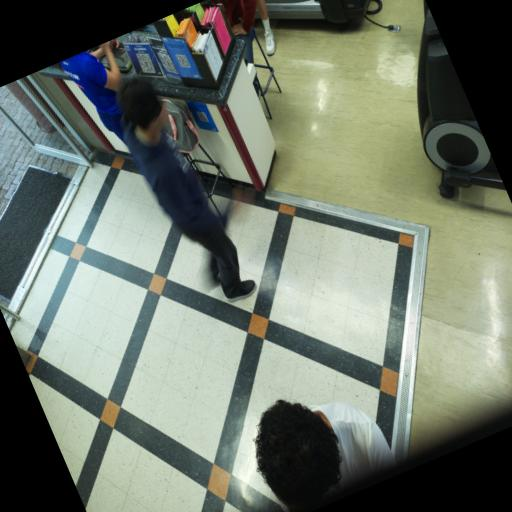person: (117, 78, 256, 301), (255, 400, 396, 511), (61, 38, 124, 140), (212, 0, 257, 62), (257, 0, 275, 55)
